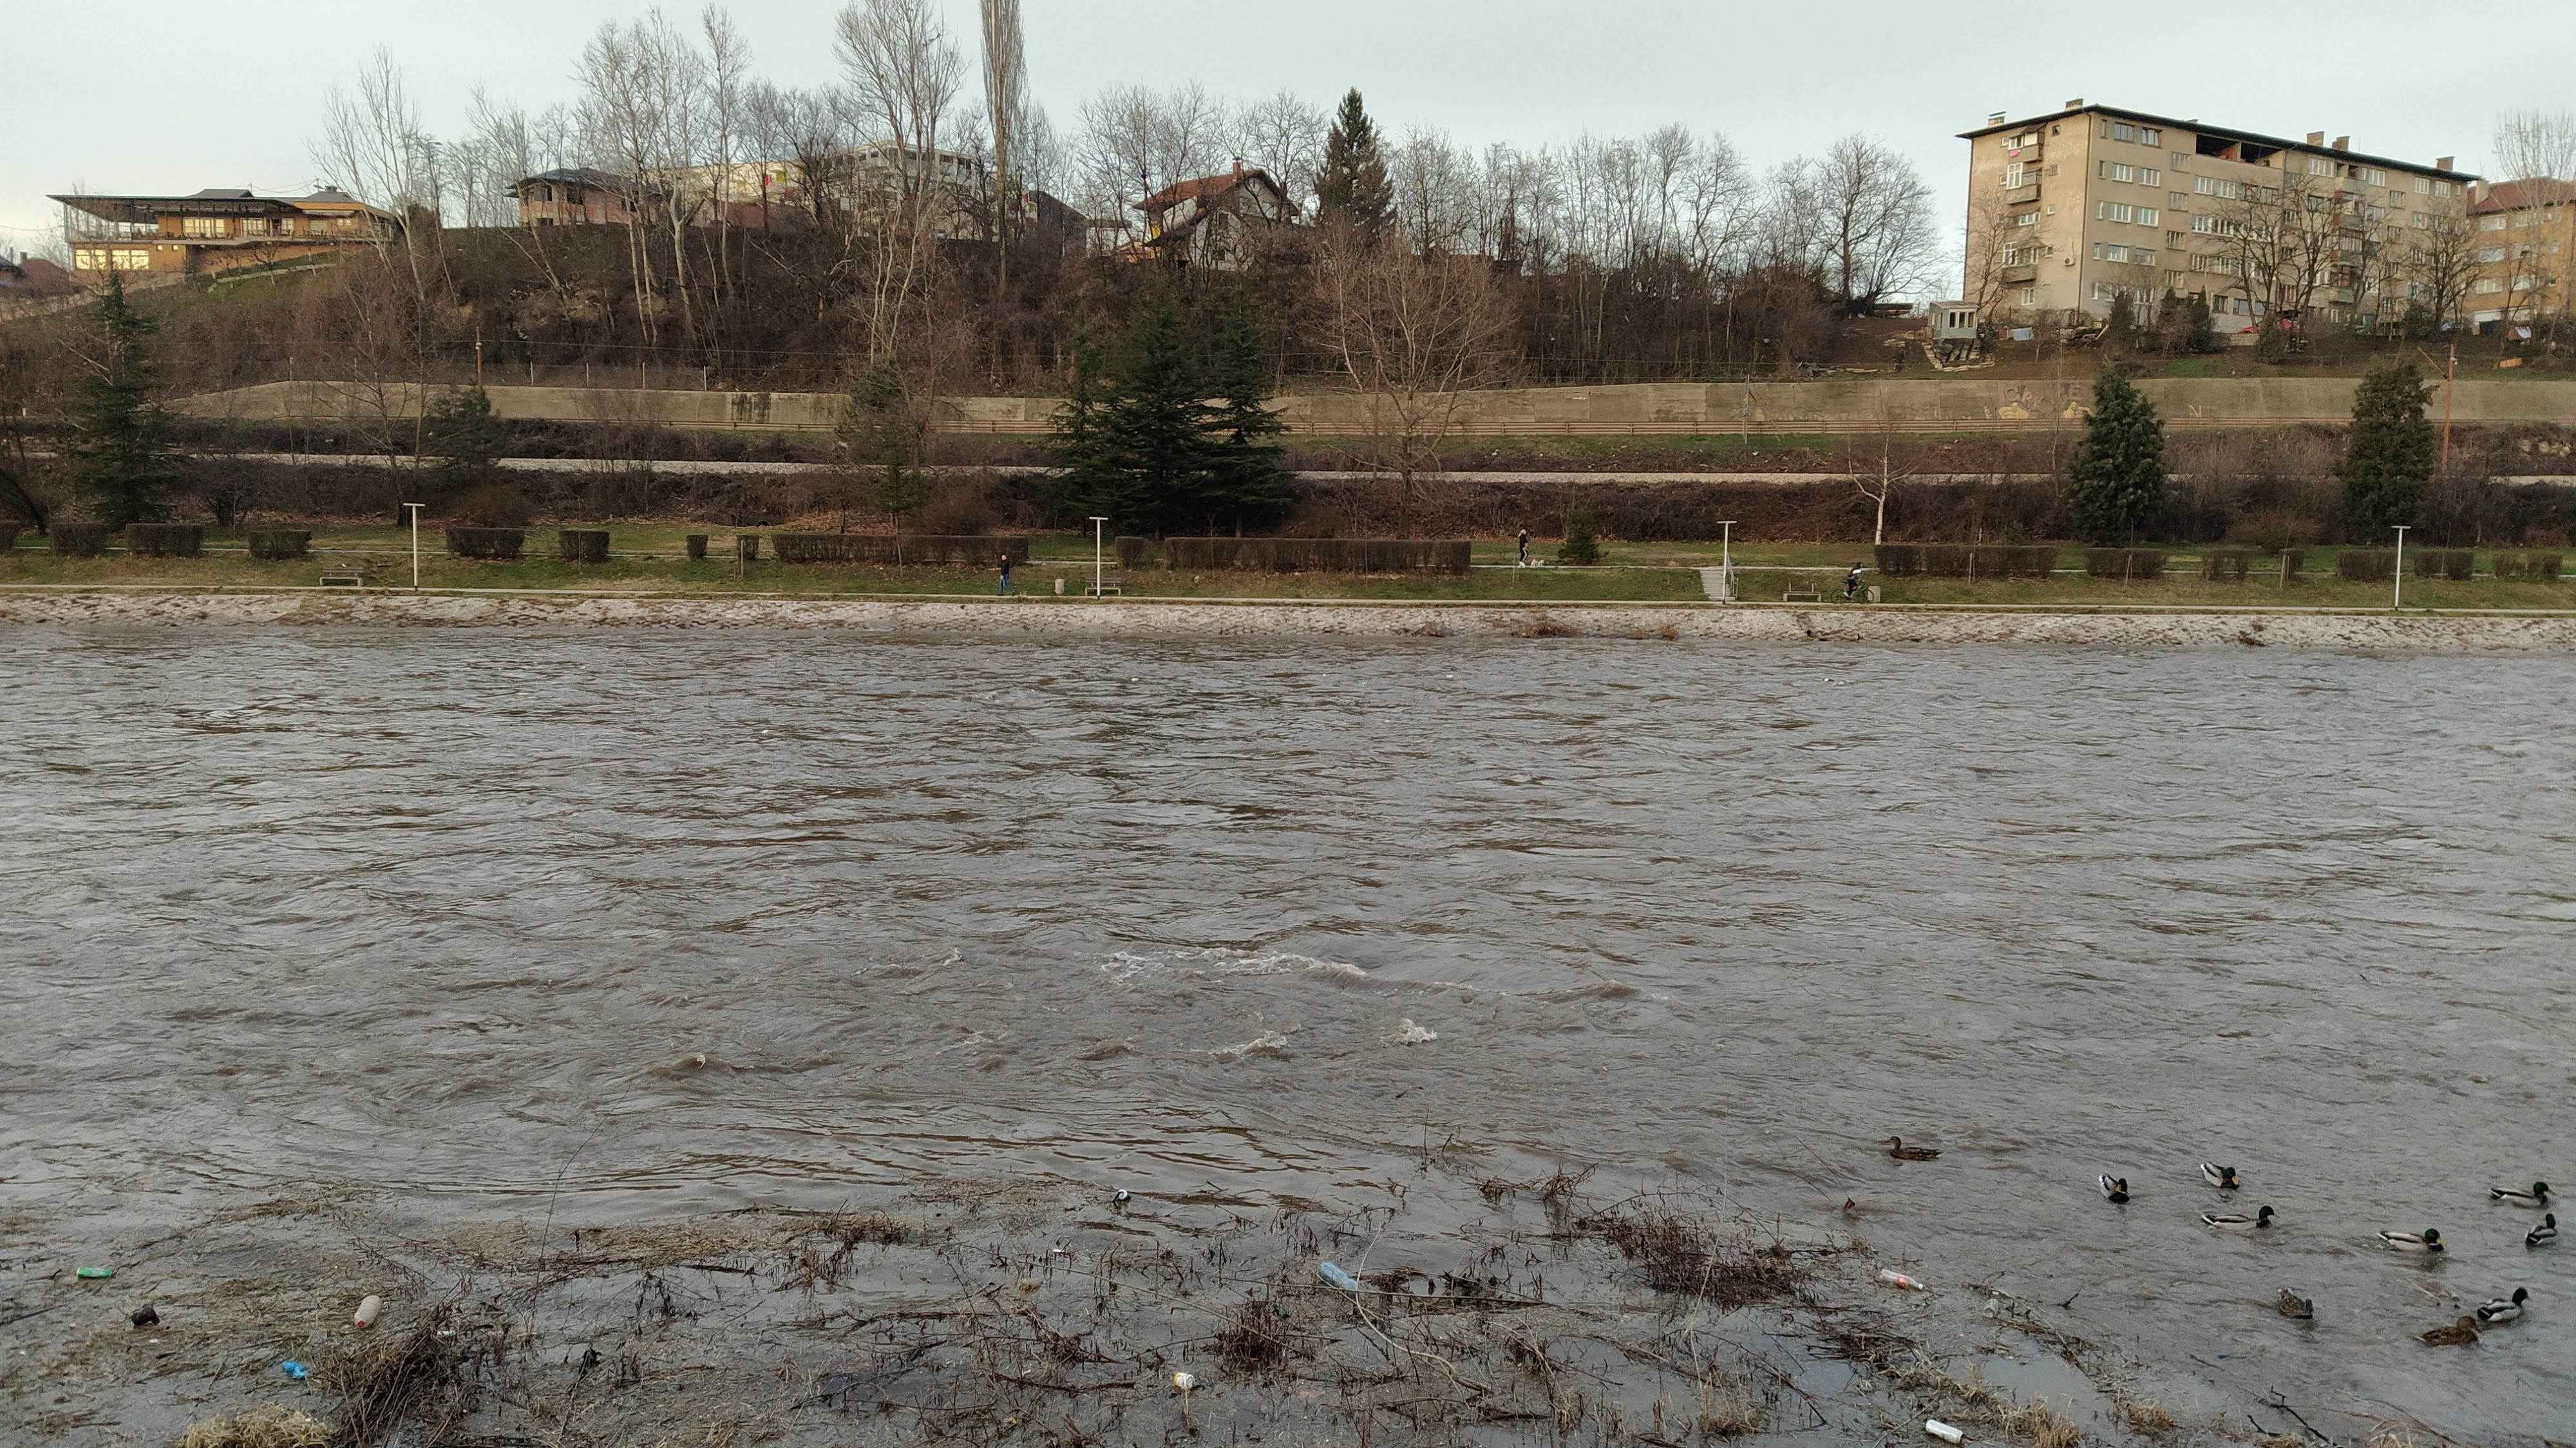Plastic Bottle: (1318, 1260, 1357, 1292), (354, 1294, 380, 1328), (1879, 1269, 1923, 1289), (131, 1303, 159, 1324), (280, 1358, 308, 1379), (76, 1266, 113, 1278), (1173, 1372, 1194, 1390), (1019, 1276, 1042, 1289), (1983, 1298, 1997, 1317), (1272, 1303, 1288, 1317), (1118, 1190, 1131, 1200), (1822, 676, 1831, 682), (1445, 674, 1453, 678)
